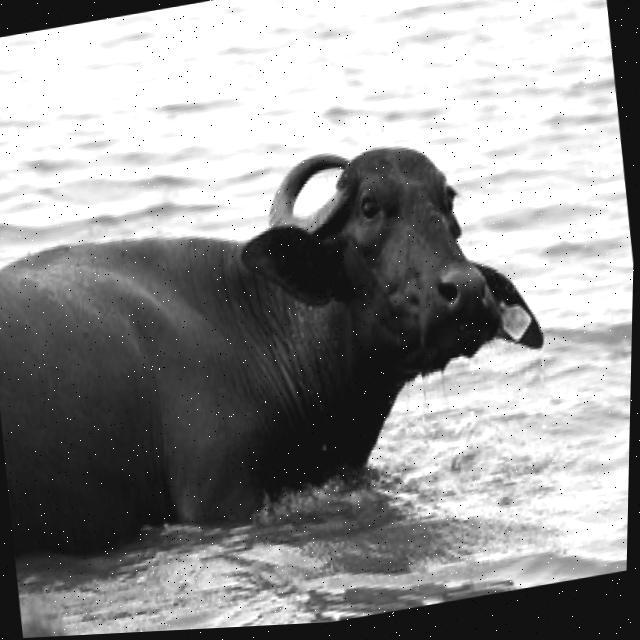Buffalo: (0, 107, 566, 572)
